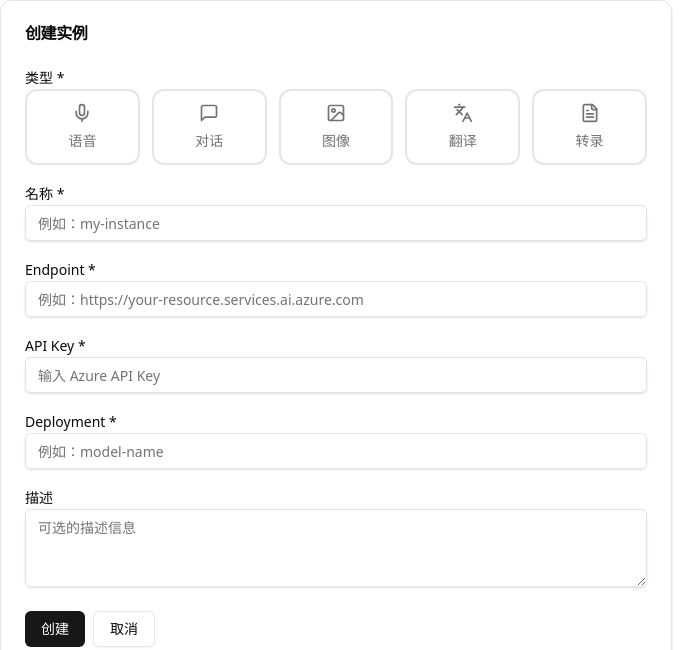
Test: InstanceForm type selector › shows a validation error when submitting without a type in create mode
The width and height of the screenshot is (689, 650).
Click the button "创建".
click(55, 629)  # box x1=25 y1=611 x2=85 y2=647
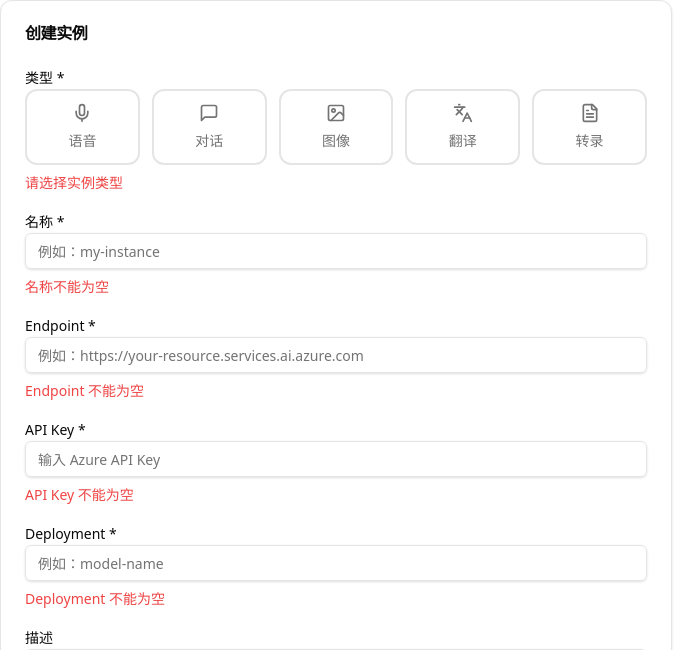
Now the text "请选择实例类型" is shown, box x1=25 y1=173 x2=123 y2=192
